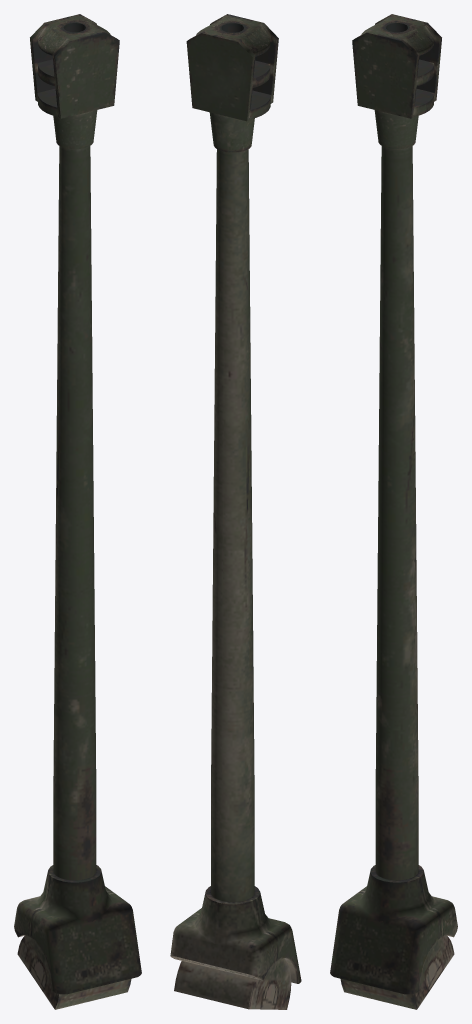
File: Gun_01.glb
3 views of the same model, side by side, from view 1: azimuth 30°, elevation 25°; view 2: azimuth 150°, elevation 25°; view 3: azimuth 330°, elevation 25° (orthographic). The views are drawn at different scales.
Visible parts, largest first — view 1: set_0_group_0; view 2: set_0_group_0; view 3: set_0_group_0.
Boxes of the visible parts, x1,y1,x2,y2 form: set_0_group_0: (14,14,141,1009); set_0_group_0: (170,14,301,1009); set_0_group_0: (330,14,457,1009).
Bounding box in the file's own units: 0.4867 × 5.15 × 0.4722.
1 material, 1 textured.
